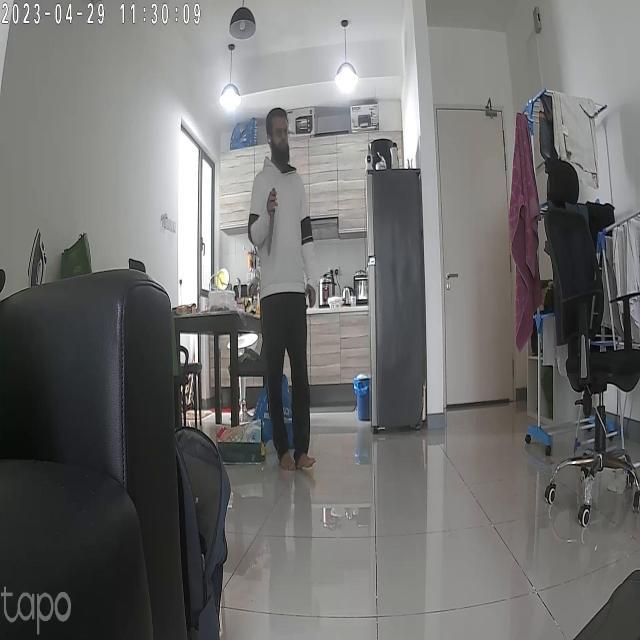Knife: (263, 183, 284, 259)
